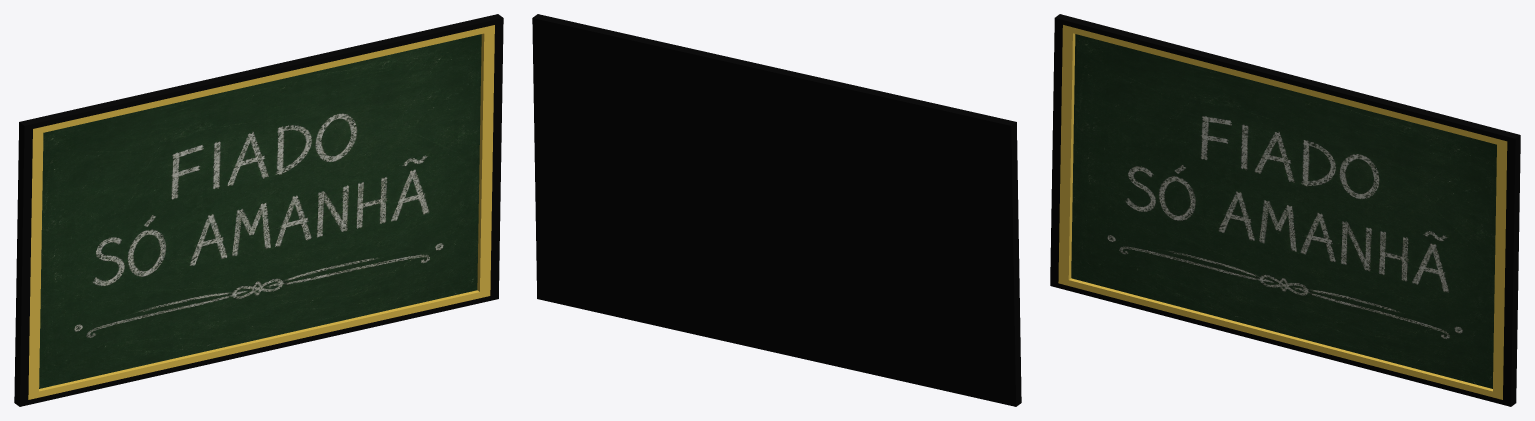
Rendered from quadro_fiado.glb.
The picture shows the model from 3 angles, left to right: view 1: azimuth 30°, elevation 25°; view 2: azimuth 150°, elevation 25°; view 3: azimuth 330°, elevation 25°; orthographic projection. The views are drawn at different scales.
Visible parts, largest first — view 1: fiado.001; view 2: fiado.001; view 3: fiado.001.
Part boxes in pixels (box(x1,y1,x2,y2)): fiado.001: box(14, 14, 503, 406); fiado.001: box(532, 14, 1021, 406); fiado.001: box(1050, 14, 1520, 406).
Size of the model in its own units: 13.3 by 7.58 by 0.2572.
3 materials, 1 textured.
